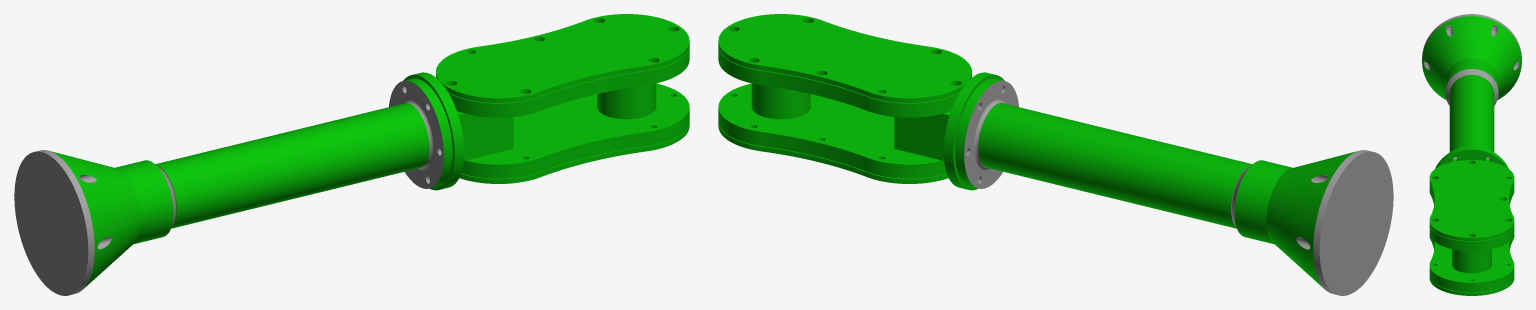
The model's file is for_arm_group.dae.
The picture shows the model from 3 angles, left to right: view 1: azimuth 30°, elevation 25°; view 2: azimuth 150°, elevation 25°; view 3: azimuth 270°, elevation 25°; orthographic projection. The views are drawn at different scales.
Visible parts, largest first — view 1: for_arm_group; view 2: for_arm_group; view 3: for_arm_group.
Boxes of the visible parts, bbox=[...] form: for_arm_group: bbox=[14, 14, 689, 295]; for_arm_group: bbox=[718, 14, 1393, 295]; for_arm_group: bbox=[1422, 14, 1521, 295].
Size of the model in its own units: 0.9839 by 0.1998 by 0.2.
